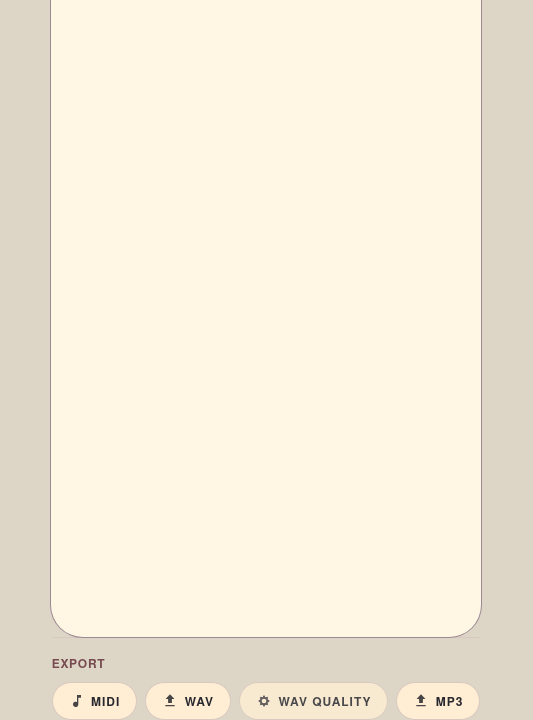
Test case: ExportPanel › reveals WAV quality options with current-safe defaults
(page scrolled)
Click the button with aria-label "show wav quality options": [314, 701] box 239,682 -> 388,719
(page scrolled)
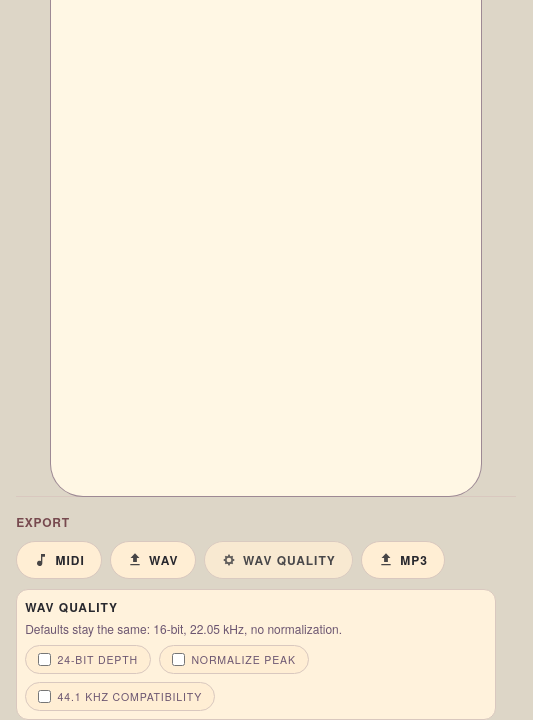
Expected: the element named "wav quality settings" is shown, 16,589 -> 496,719
Expected: the checkbox labelled "24-bit depth" is not checked, 38,653 -> 51,666
Expected: the checkbox labelled "Normalize peak" is not checked, 172,653 -> 185,666
